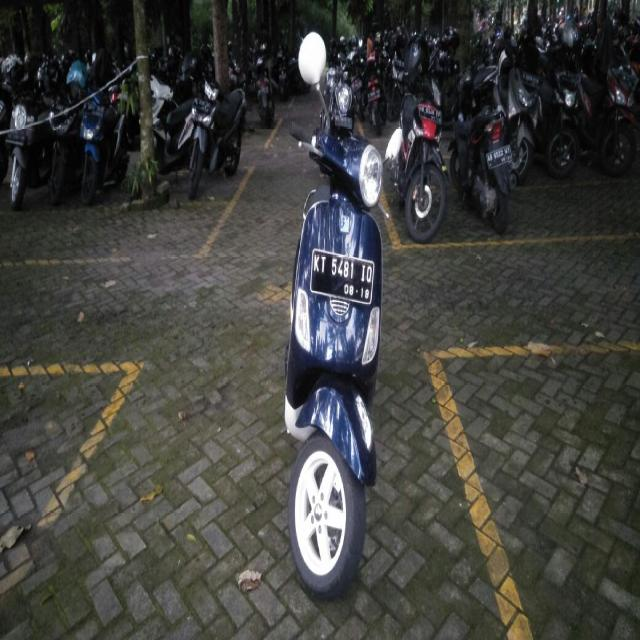plate: (309, 248, 374, 306)
